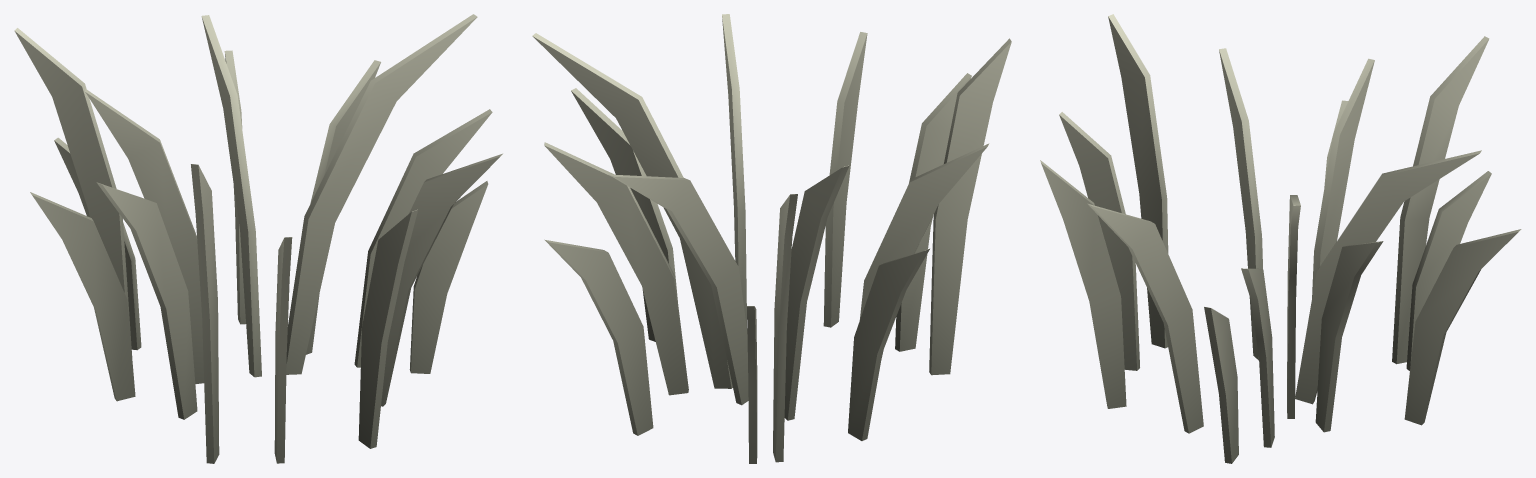
File: grass_tuft_small.glb
The picture shows the model from 3 angles, left to right: view 1: azimuth 30°, elevation 25°; view 2: azimuth 150°, elevation 25°; view 3: azimuth 270°, elevation 25°; orthographic projection. The views are drawn at different scales.
Visible parts, largest first — view 1: Veg_Grass_Tuft_Small; view 2: Veg_Grass_Tuft_Small; view 3: Veg_Grass_Tuft_Small.
Part boxes in pixels (x1,y1,x2,y2): Veg_Grass_Tuft_Small: [14, 14, 503, 463]; Veg_Grass_Tuft_Small: [532, 14, 1011, 463]; Veg_Grass_Tuft_Small: [1040, 14, 1521, 463].
Bounding box in the file's own units: 0.8296 × 0.6164 × 0.8648.
